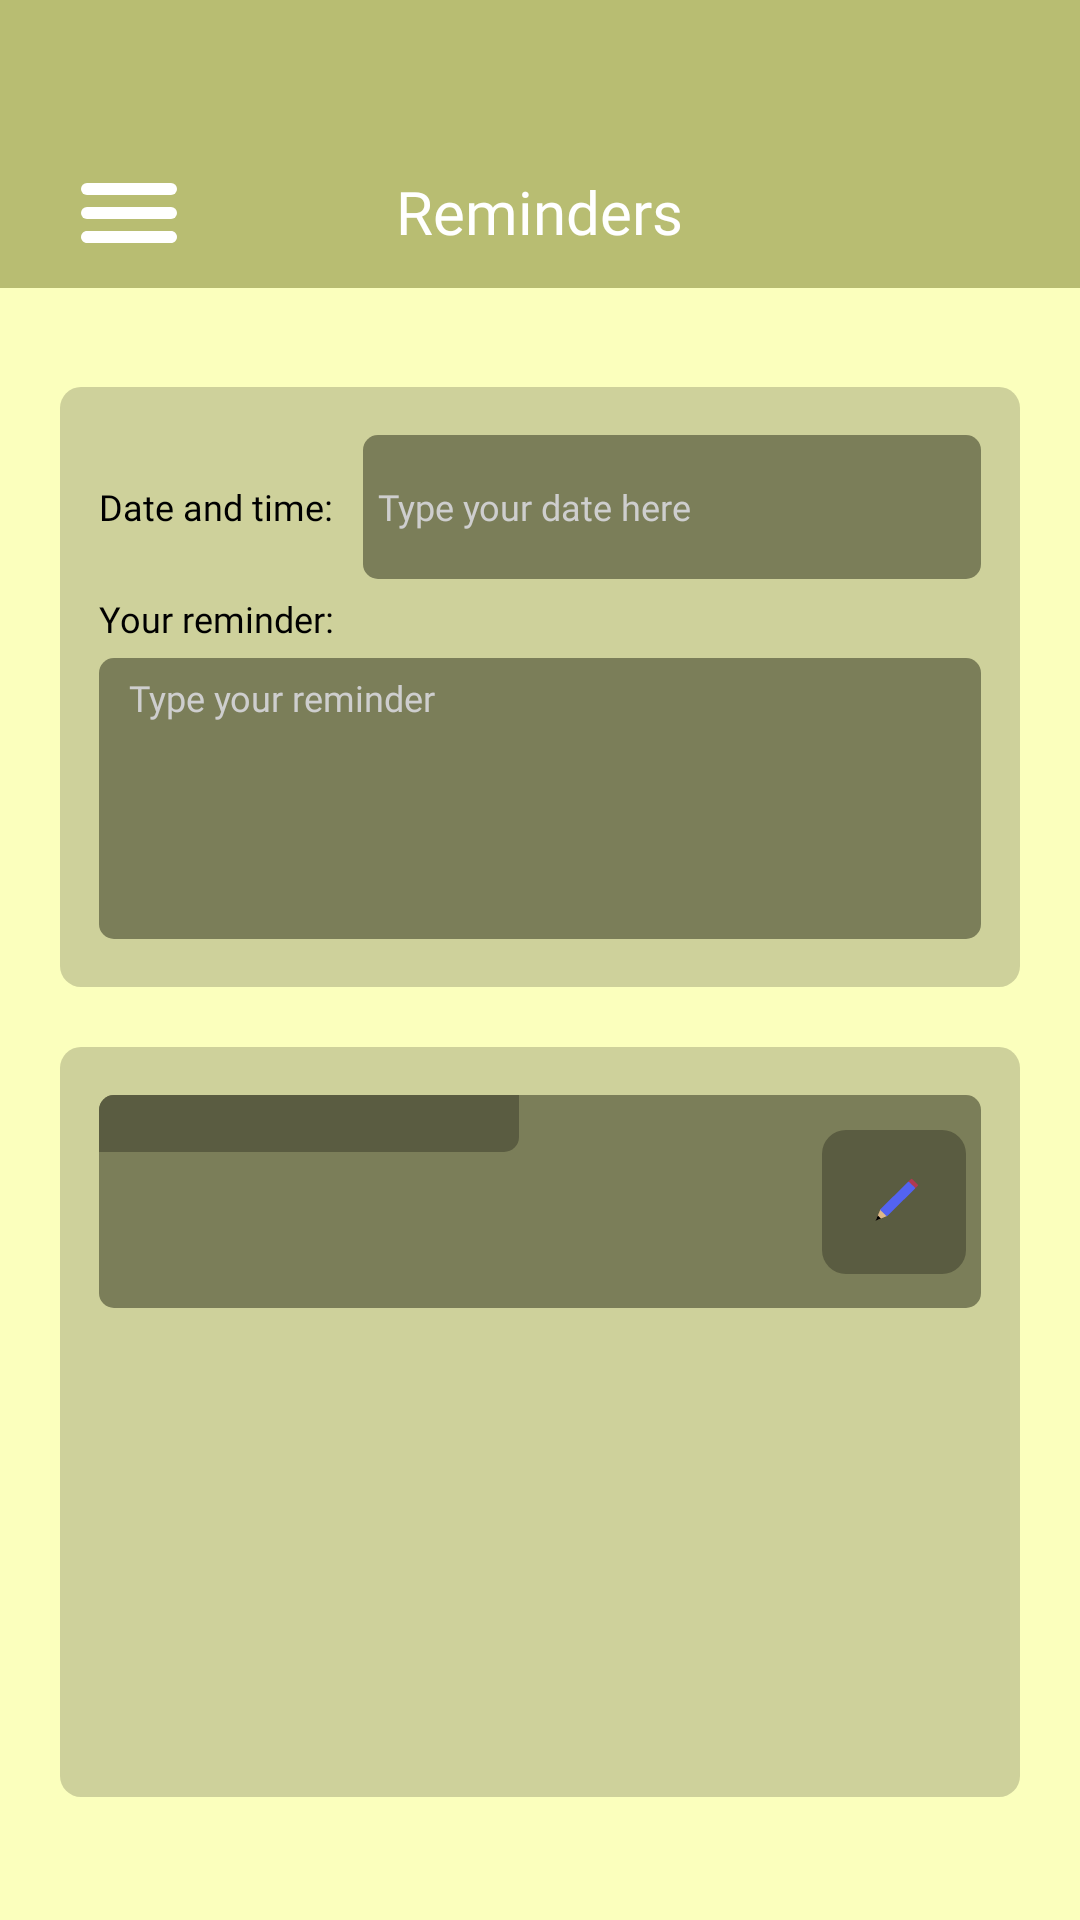

Named icons in this screenshot (1080w x 1920h) and their bounding boxes, (x1, y1, x2, y2):
option: (81, 183, 177, 243)
pen: (822, 1130, 966, 1274)
